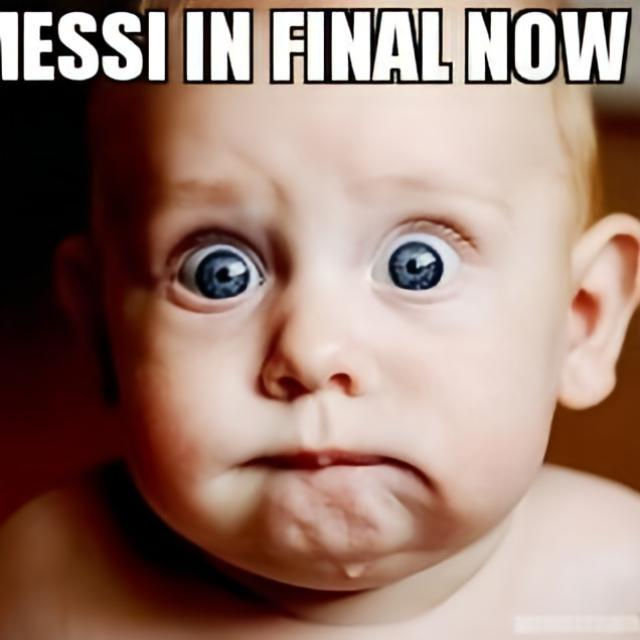fear: (88, 0, 574, 591)
